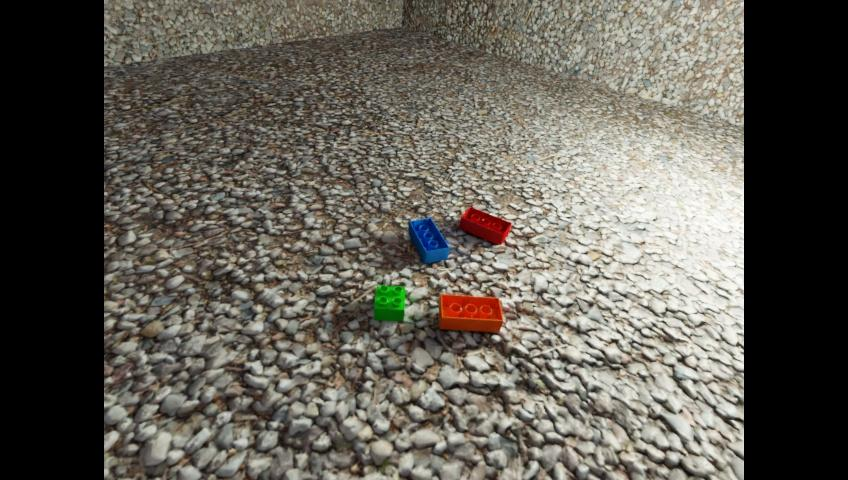2x2_green: (374, 285, 404, 321)
4x2_blue: (408, 217, 448, 263)
4x2_orange: (438, 293, 502, 332)
4x2_red: (459, 206, 511, 245)
